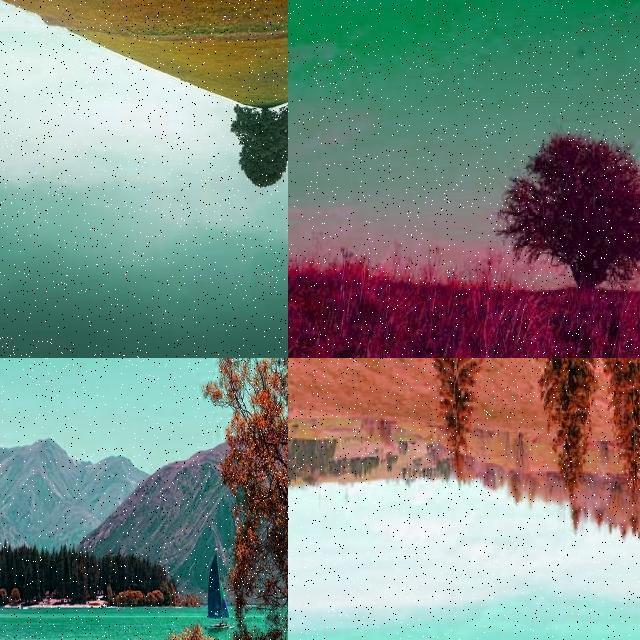tree: (148, 358, 288, 640), (502, 124, 640, 292), (518, 358, 610, 560), (412, 358, 492, 476), (0, 0, 60, 122), (220, 101, 288, 191), (170, 0, 227, 36)
